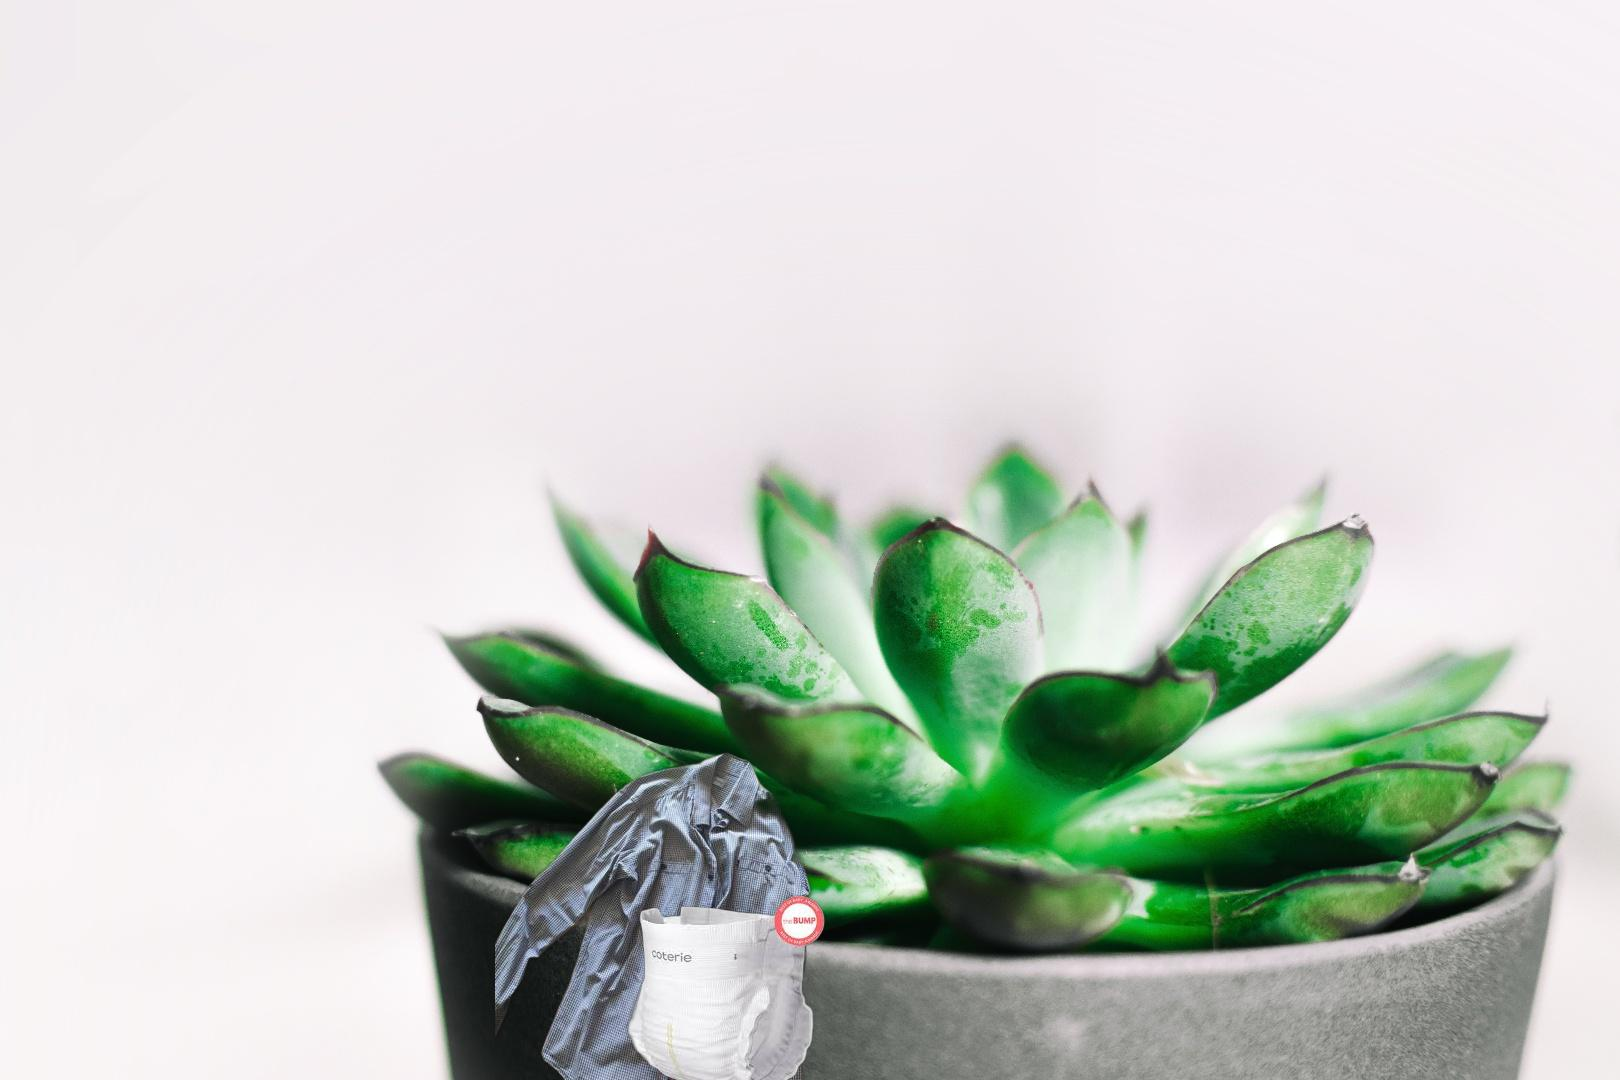clothes: (495, 749, 814, 1080)
paper: (1608, 229, 1620, 614)
trash: (622, 893, 827, 1080)
